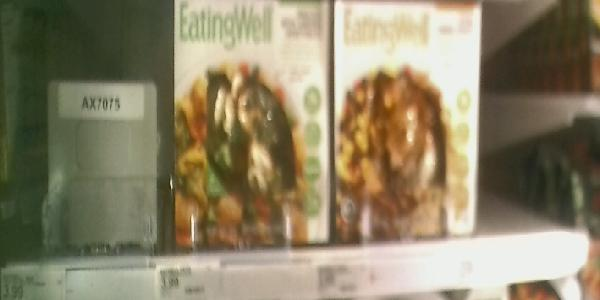pizza1: (169, 1, 331, 252), (334, 1, 478, 239)
